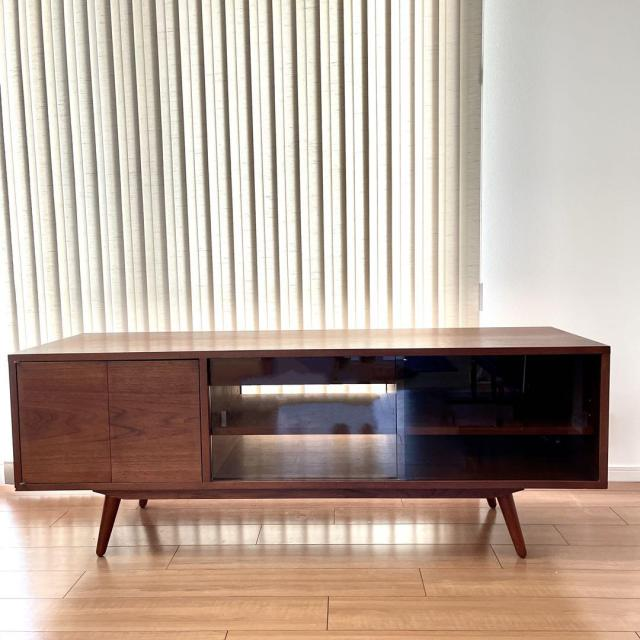vintage shelf: (11, 326, 614, 564)
